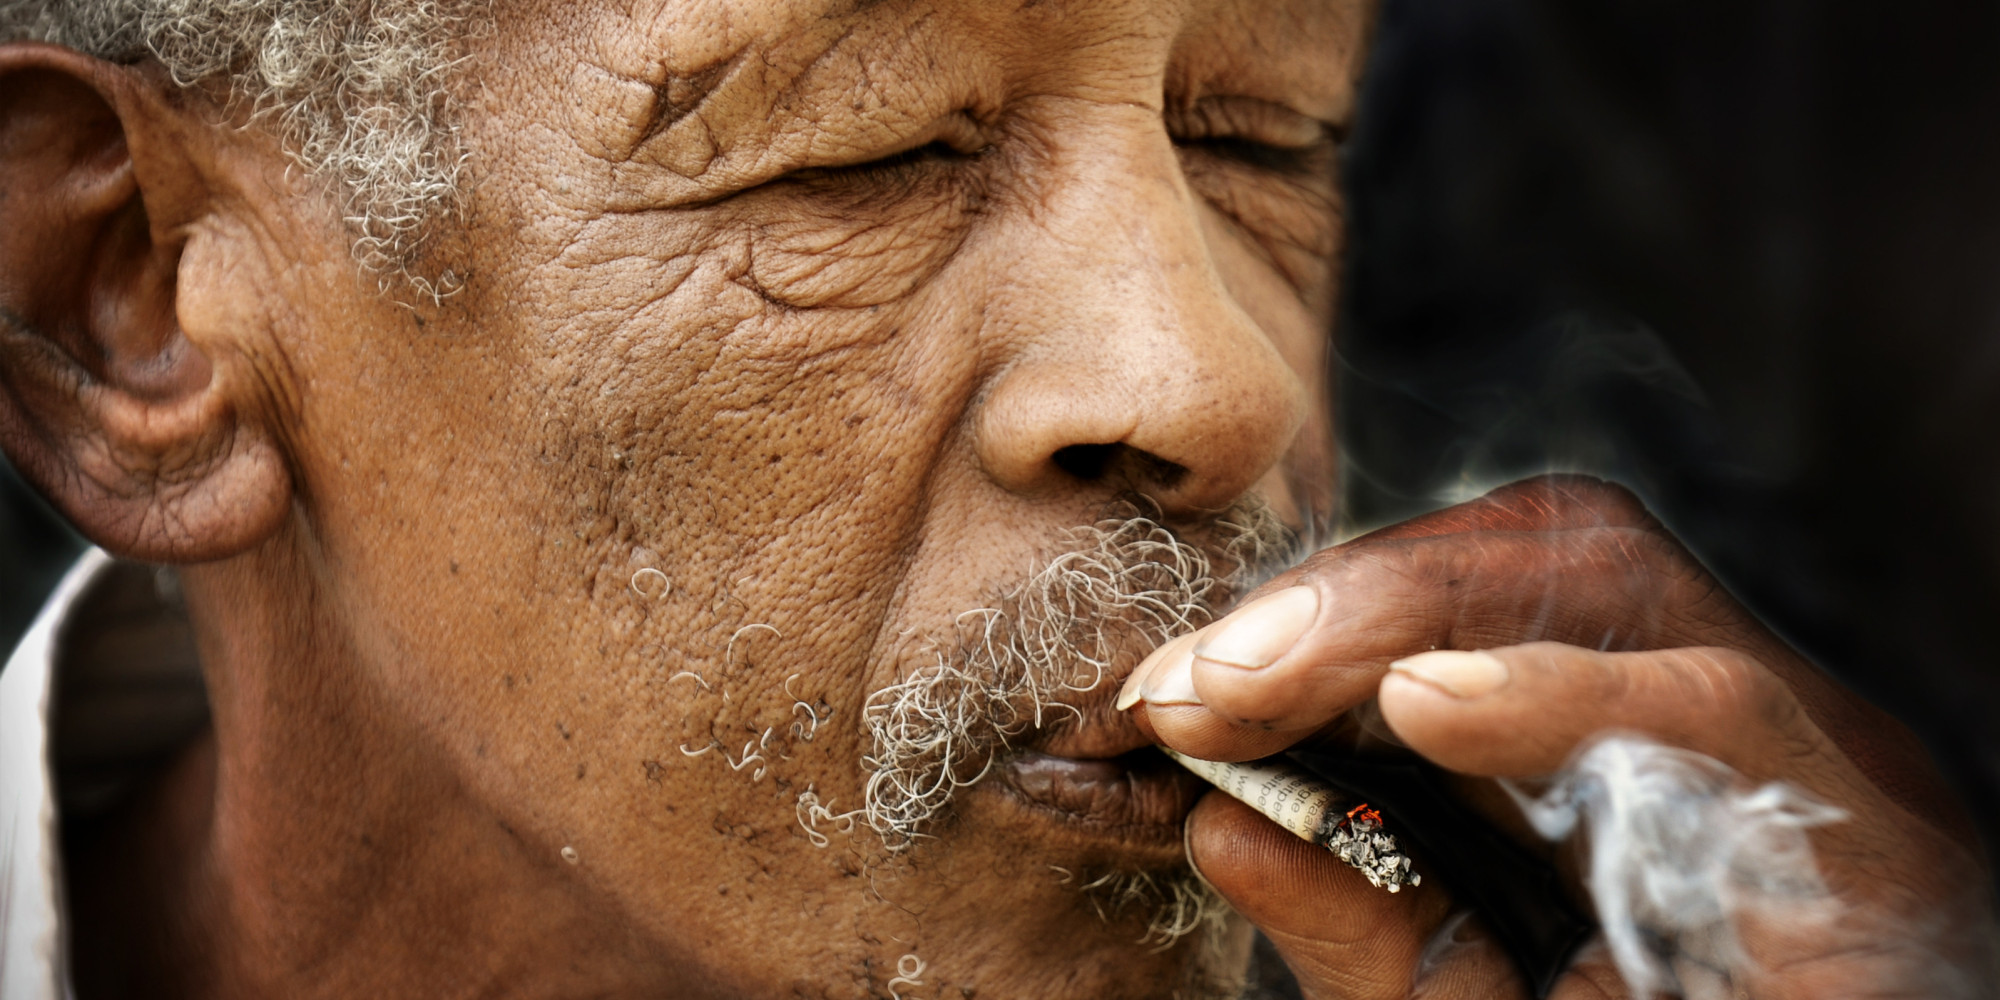cigarette: (1121, 695, 1432, 918)
